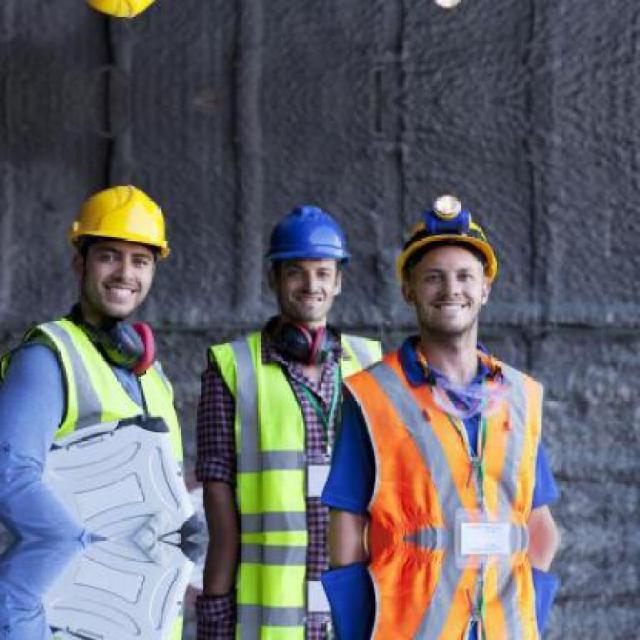Reflective-Jacket: (346, 346, 551, 640), (203, 322, 372, 568), (0, 312, 191, 478)
Safety-Helmet: (389, 190, 505, 282), (60, 180, 175, 266), (262, 198, 356, 271)
